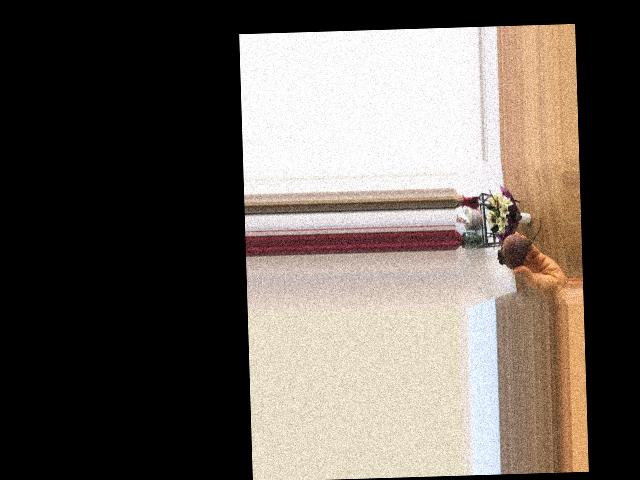beet: (496, 216, 542, 269)
